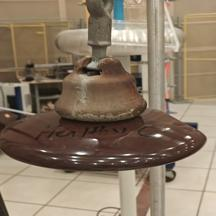insulator: (1, 54, 215, 179)
